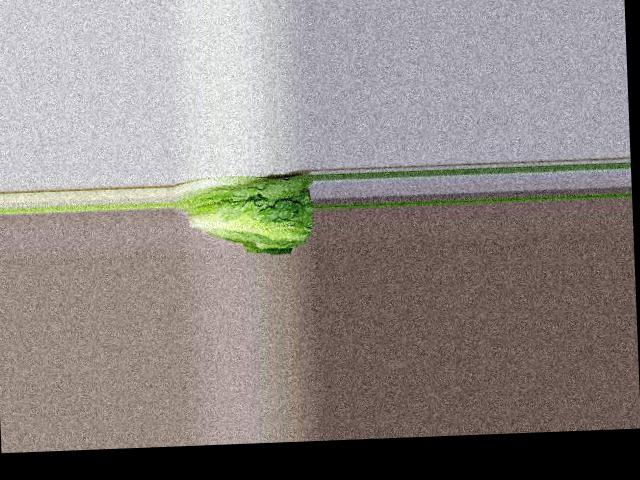lettuce: (179, 169, 316, 248)
